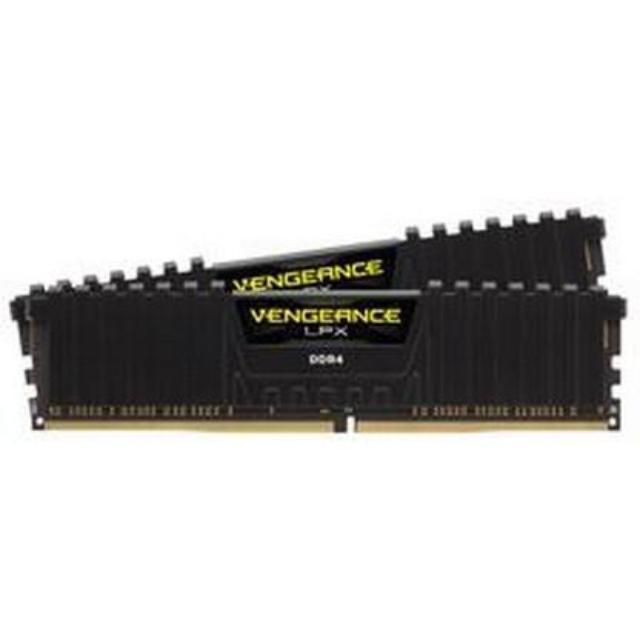RAM: (10, 202, 630, 486)
